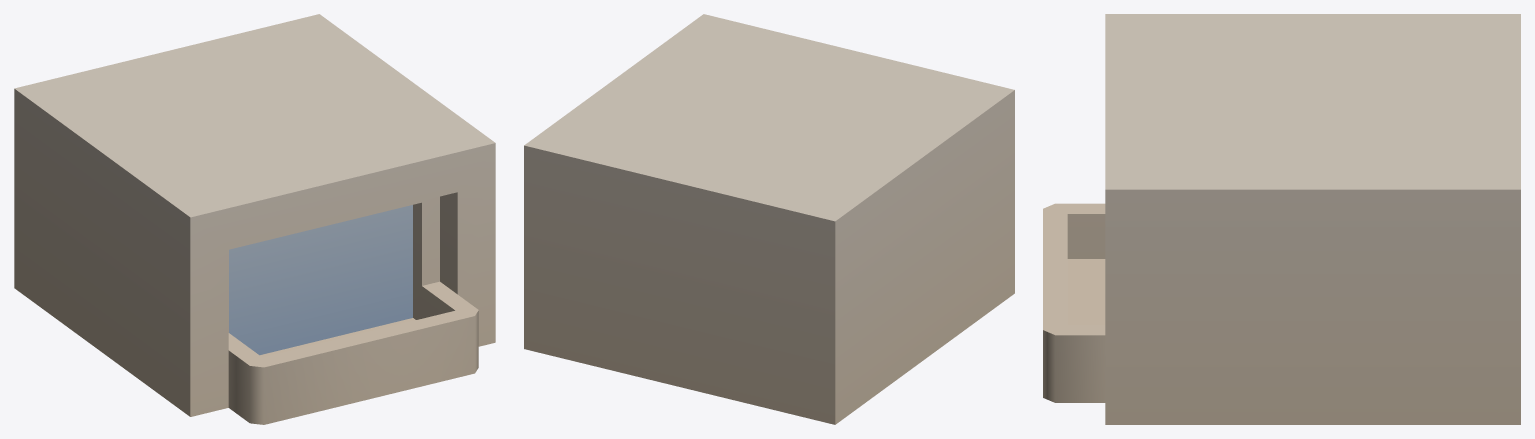
Rendered from building-window-balcony.glb.
3 renders of one model, left to right at view 1: azimuth 30°, elevation 25°; view 2: azimuth 150°, elevation 25°; view 3: azimuth 270°, elevation 25°, orthographic. The views are drawn at different scales.
Visible parts, largest first — view 1: building-window-balcony; view 2: building-window-balcony; view 3: building-window-balcony.
Boxes of the visible parts, left/top/right/bottom form: building-window-balcony: left=14, top=14, right=495, bottom=424; building-window-balcony: left=524, top=14, right=1014, bottom=424; building-window-balcony: left=1043, top=14, right=1520, bottom=424.
Size of the model in its own units: 1 by 0.625 by 1.15.
